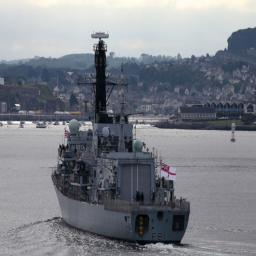Fragata: (48, 19, 193, 246)
